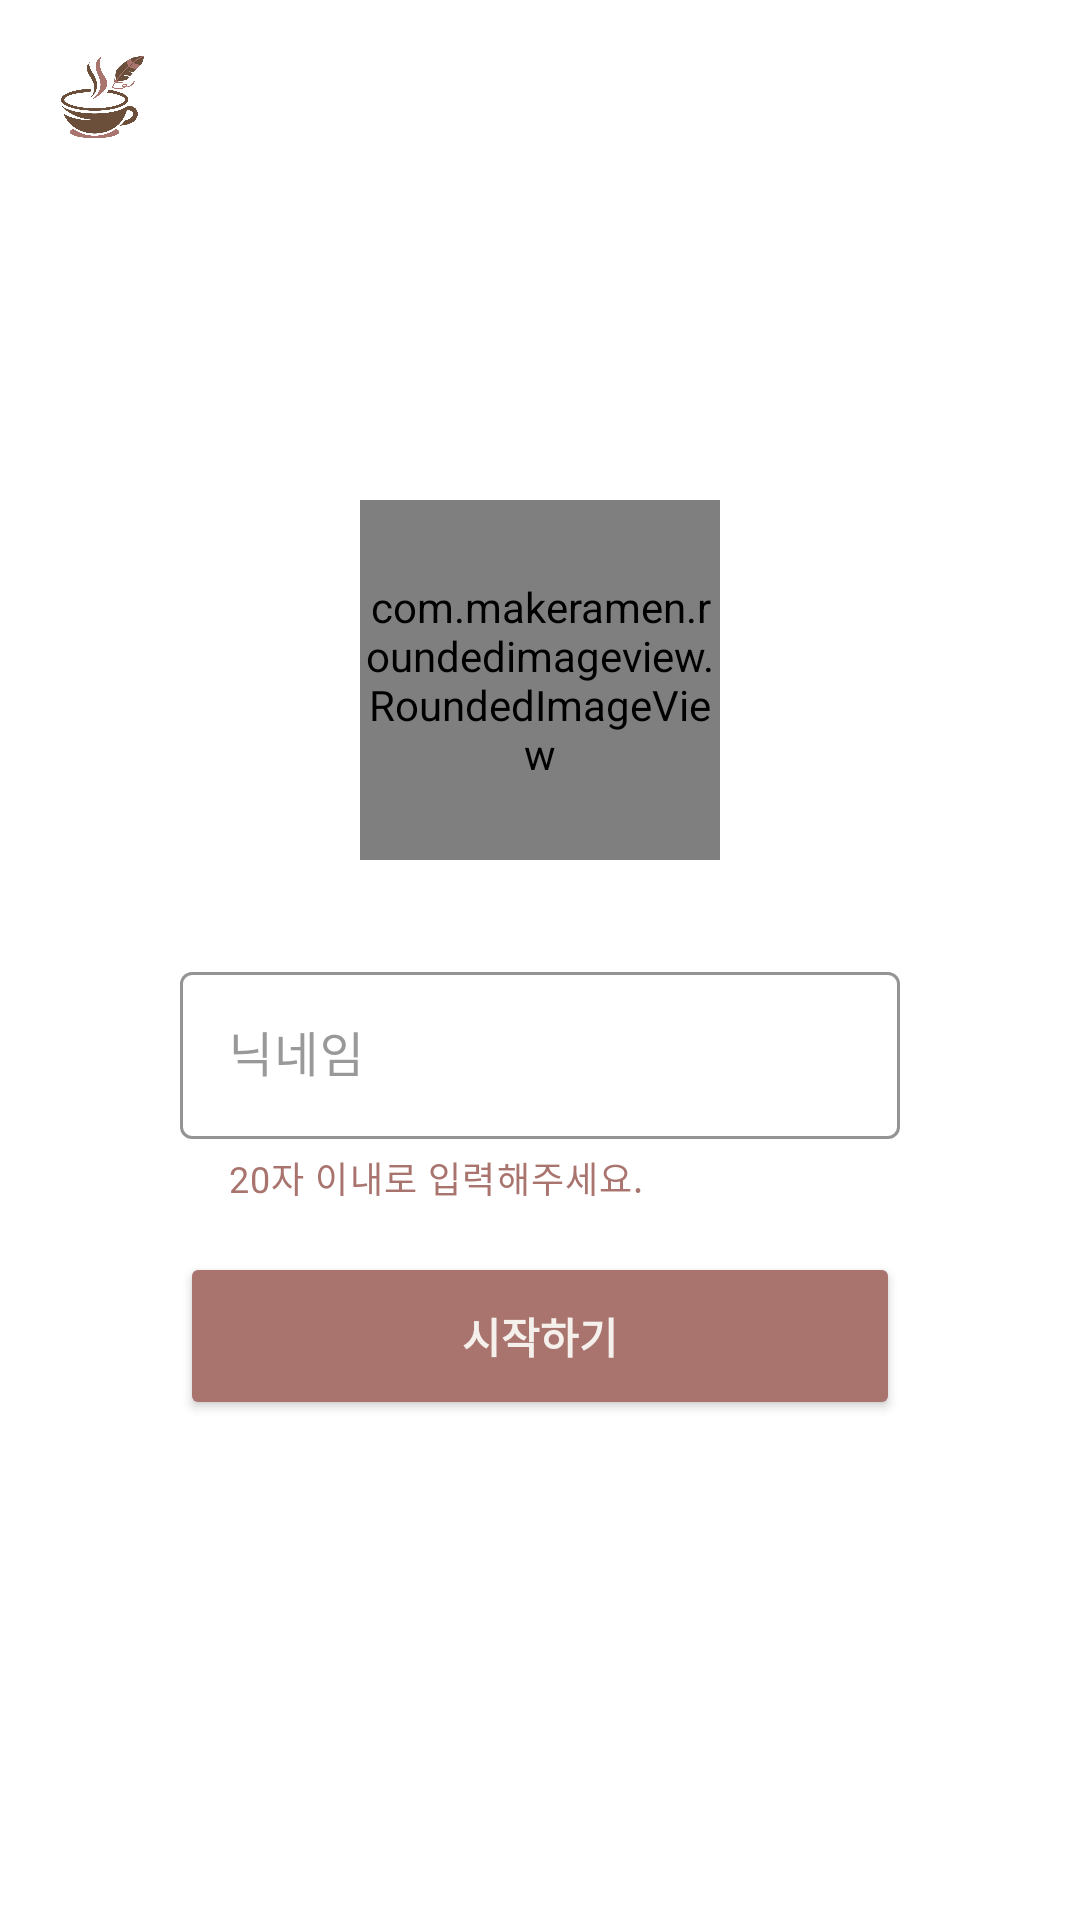

Icon click points for this 1080px x 1920px phone screenshot, format [x,y]:
app: [102,97]
